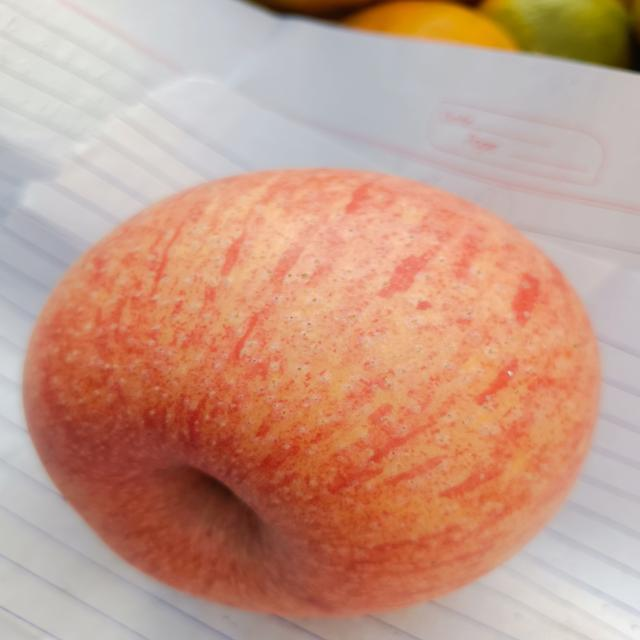Fresh Apple: (23, 169, 608, 614)
